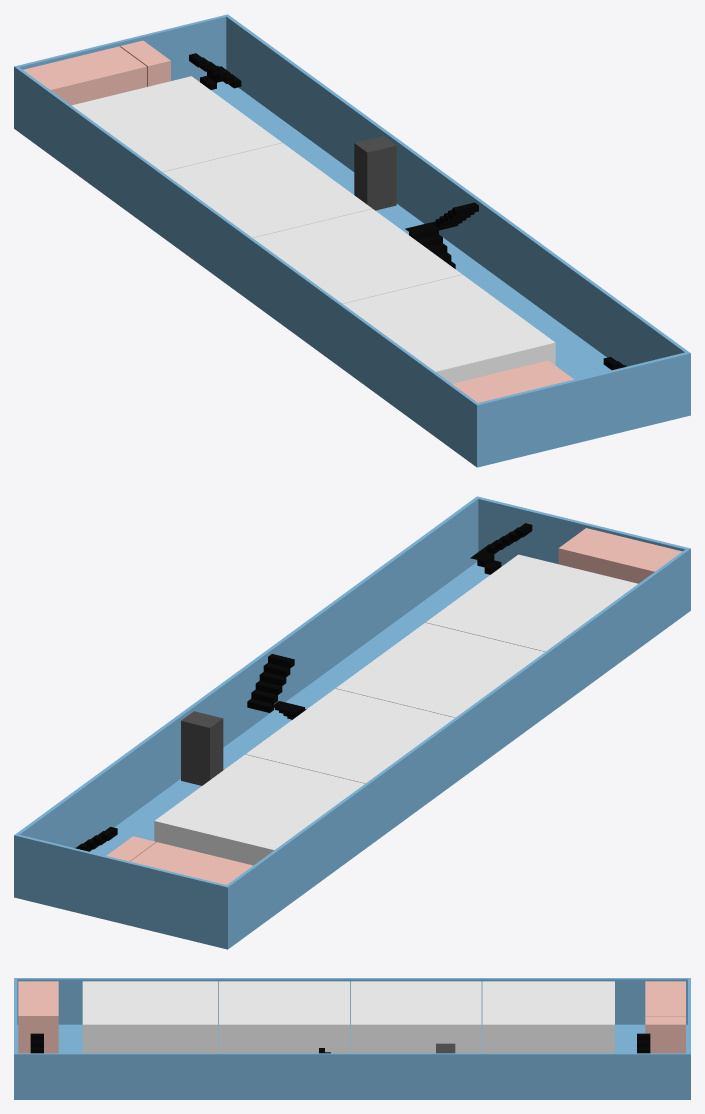
3 views of the same model, one above another, from view 1: azimuth 30°, elevation 25°; view 2: azimuth 150°, elevation 25°; view 3: azimuth 270°, elevation 25° (orthographic). The views are drawn at different scales.
Visible parts, largest first — view 1: object, 811, 814, 812, 813, 女子トイレ_8_1, エレベーター_8_1, 男子トイレ_8_1, 階段_8_1_3, バリアフリートイレ_8_1, 階段_8_1_2; view 2: object, 814, 811, 813, 812, 男子トイレ_8_1, エレベーター_8_1, 女子トイレ_8_1, 階段_8_1_3, 階段_8_1_1; view 3: object, 811, 814, 812, 813, 男子トイレ_8_1, 女子トイレ_8_1, バリアフリートイレ_8_1, 階段_8_1_1, 階段_8_1_2, エレベーター_8_1.
Boxes of the visible parts, box(x1,y1,x2,y2) form: object: box(14, 14, 690, 467); 811: box(343, 275, 555, 383); 814: box(72, 76, 282, 171); 812: box(253, 209, 462, 303); 813: box(163, 143, 372, 237); 女子トイレ_8_1: box(23, 46, 146, 105); エレベーター_8_1: box(354, 136, 396, 210); 男子トイレ_8_1: box(452, 360, 573, 402); 階段_8_1_3: box(405, 202, 478, 268); バリアフリートイレ_8_1: box(120, 40, 170, 86); 階段_8_1_2: box(189, 53, 241, 89); object: box(14, 496, 690, 949); 814: box(154, 754, 364, 865); 811: box(425, 554, 637, 651); 813: box(245, 688, 454, 783); 812: box(335, 622, 544, 717); 男子トイレ_8_1: box(558, 528, 682, 583); エレベーター_8_1: box(181, 711, 223, 785); 女子トイレ_8_1: box(130, 842, 253, 885); 階段_8_1_3: box(247, 654, 306, 719); 階段_8_1_1: box(470, 523, 532, 574); object: box(14, 978, 690, 1099); 811: box(82, 981, 218, 1053); 814: box(482, 981, 614, 1053); 812: box(219, 981, 349, 1053); 813: box(350, 981, 481, 1053); 男子トイレ_8_1: box(18, 981, 58, 1053); 女子トイレ_8_1: box(645, 981, 685, 1016); バリアフリートイレ_8_1: box(645, 1016, 685, 1053); 階段_8_1_1: box(30, 1033, 43, 1053); 階段_8_1_2: box(637, 1033, 650, 1053); エレベーター_8_1: box(436, 1043, 455, 1053).
Size of the model in its own units: 0.6592 by 0.1889 by 2.47.
